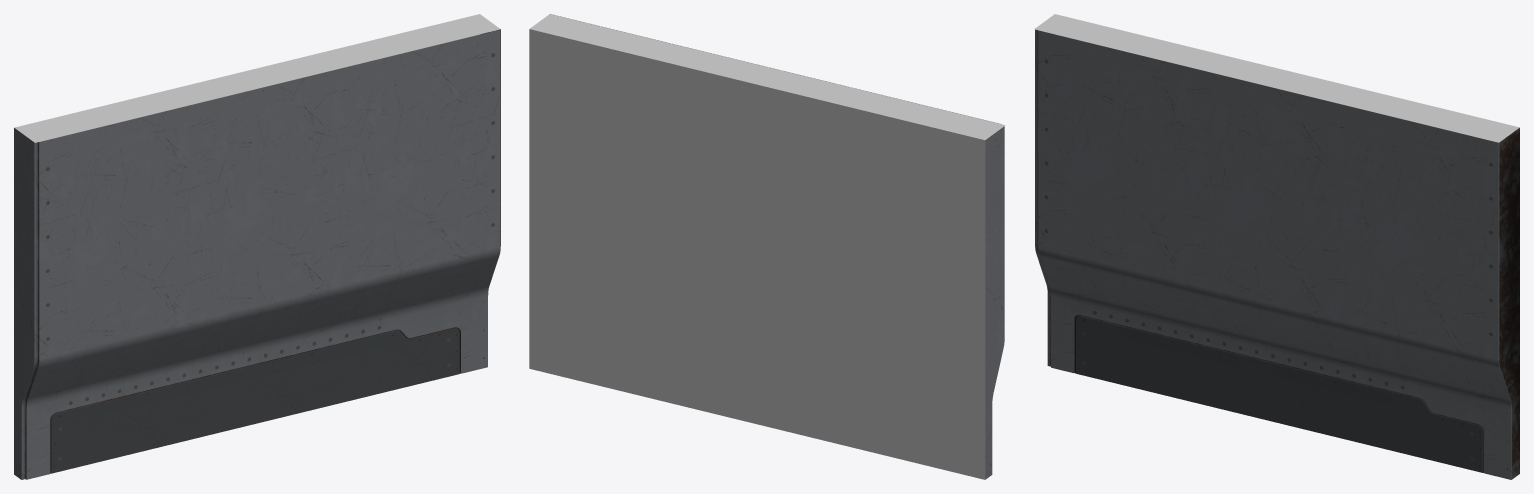
Rendered from SM_HangarWall02.fbx.
The picture shows the model from 3 angles, left to right: view 1: azimuth 30°, elevation 25°; view 2: azimuth 150°, elevation 25°; view 3: azimuth 330°, elevation 25°; orthographic projection. The views are drawn at different scales.
Visible parts, largest first — view 1: SM_HangarWall02_LOD0; view 2: SM_HangarWall02_LOD0; view 3: SM_HangarWall02_LOD0.
Part boxes in pixels (left/top/right/bottom): SM_HangarWall02_LOD0: left=14, top=14, right=500, bottom=479; SM_HangarWall02_LOD0: left=529, top=14, right=1005, bottom=479; SM_HangarWall02_LOD0: left=1034, top=14, right=1519, bottom=479.
Size of the model in its own units: 880 by 69.09 by 627.
Materials: 2 (1 with a texture image).
